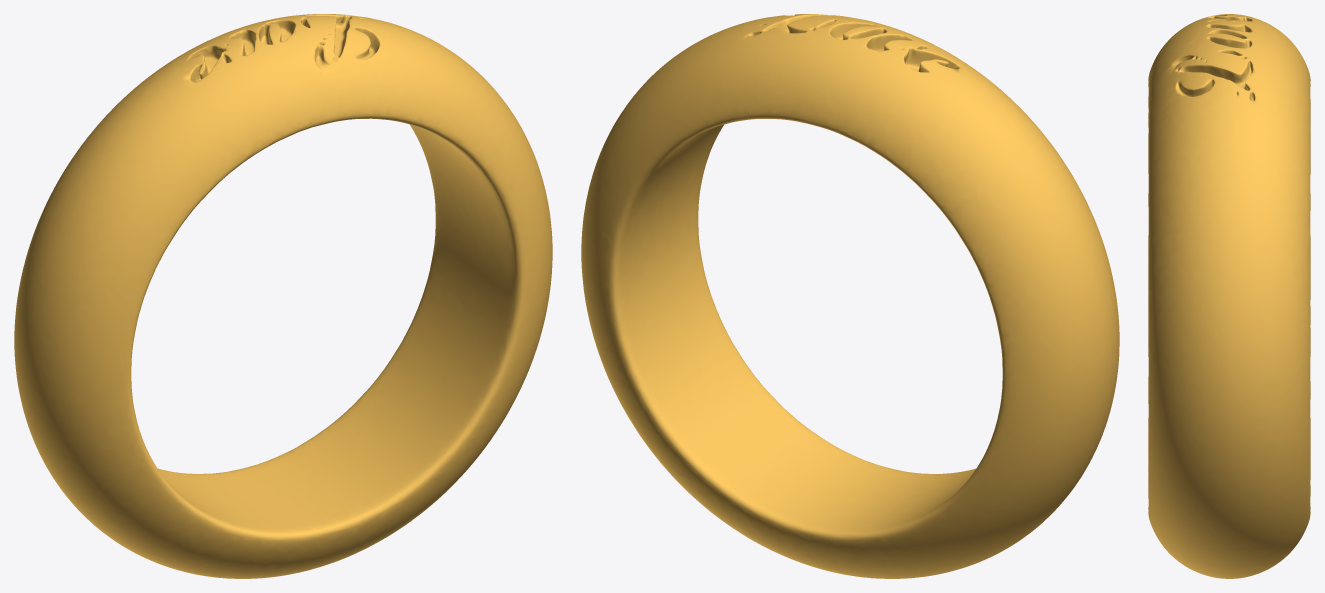
File: love.obj
3 views of the same model, side by side, from view 1: azimuth 30°, elevation 25°; view 2: azimuth 150°, elevation 25°; view 3: azimuth 270°, elevation 25° (orthographic). The views are drawn at different scales.
Parts seen in each view (by area): view 1: Volume4; view 2: Volume4; view 3: Volume4.
Boxes of the visible parts, box(x1,y1,x2,y2) form: Volume4: box(14, 14, 552, 578); Volume4: box(581, 14, 1119, 578); Volume4: box(1148, 14, 1310, 578).
Bounding box in the file's own units: 99.91 × 99.87 × 28.67.
1 material, 1 textured.
